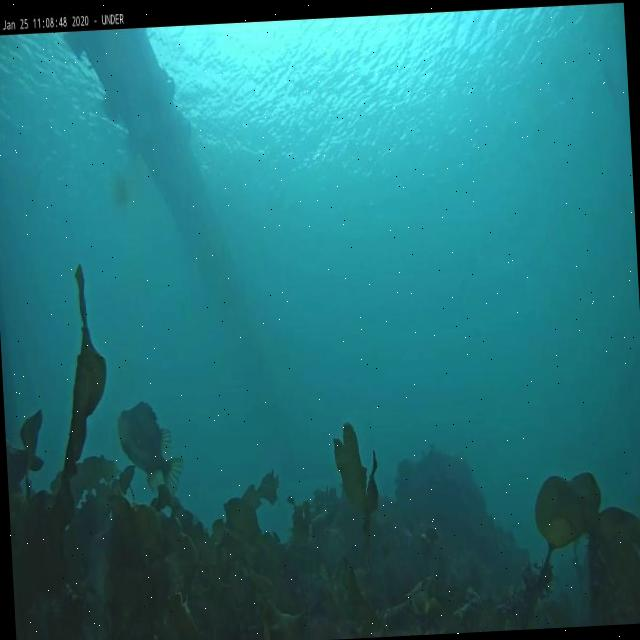fish: (116, 398, 188, 508)
